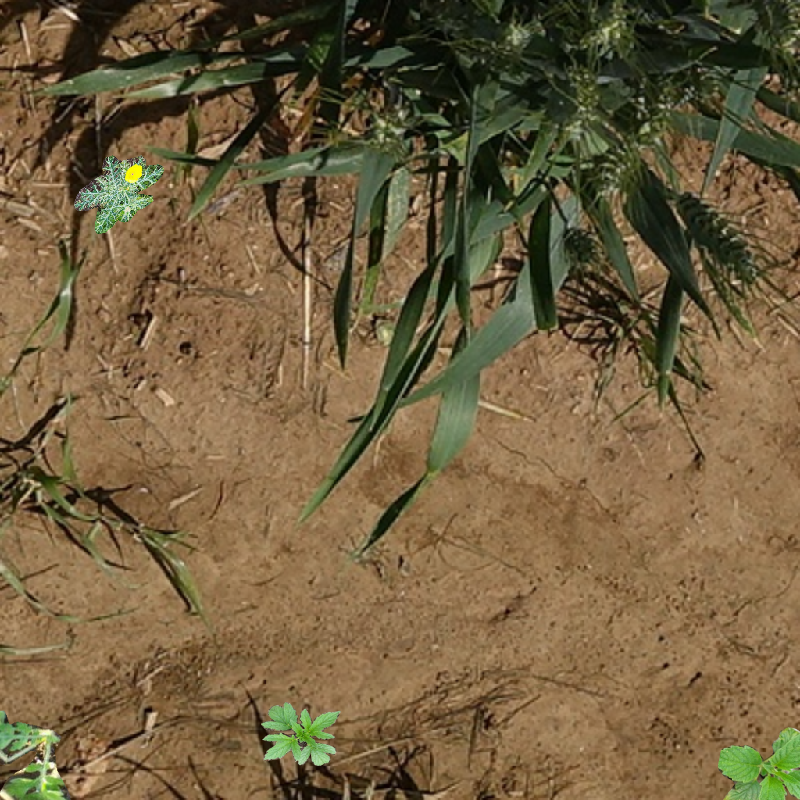spikelet: (670, 188, 769, 292), (587, 129, 653, 200), (562, 1, 641, 51), (556, 62, 610, 119), (359, 100, 414, 153), (754, 1, 800, 57), (555, 218, 603, 271), (487, 21, 530, 73), (644, 73, 672, 136), (689, 63, 720, 105)
weed: (75, 151, 176, 243), (1, 710, 71, 800), (718, 727, 800, 800), (261, 702, 341, 766)
